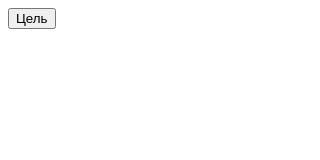
it: Tooltip › цель удалена из DOM → тултип исчезает
Hover over the button "Цель": (32, 18) [8,8,56,29]
Wait 250 ms
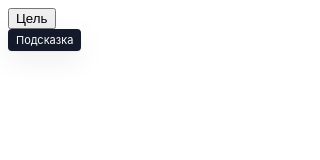
Expected: the tooltip "Подсказка" is shown, [8,29,81,51]
